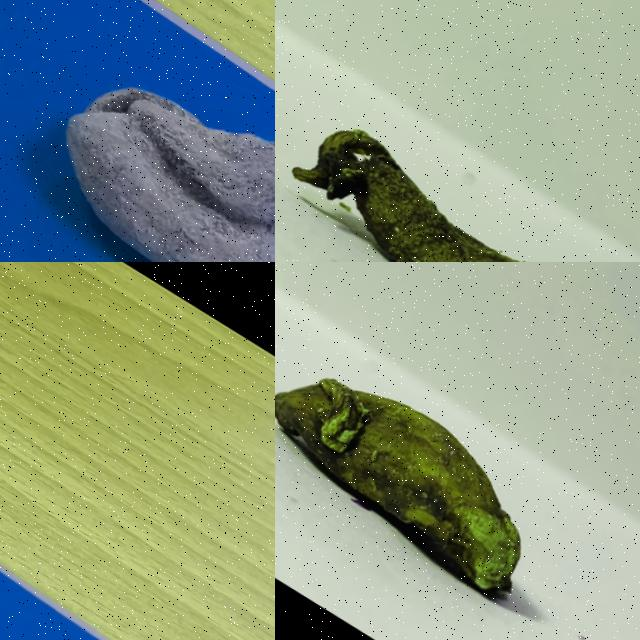Agglomerated_cocoabeans: (0, 0, 274, 261)
Flat_cocoabeans: (275, 274, 639, 639), (275, 57, 639, 261)
